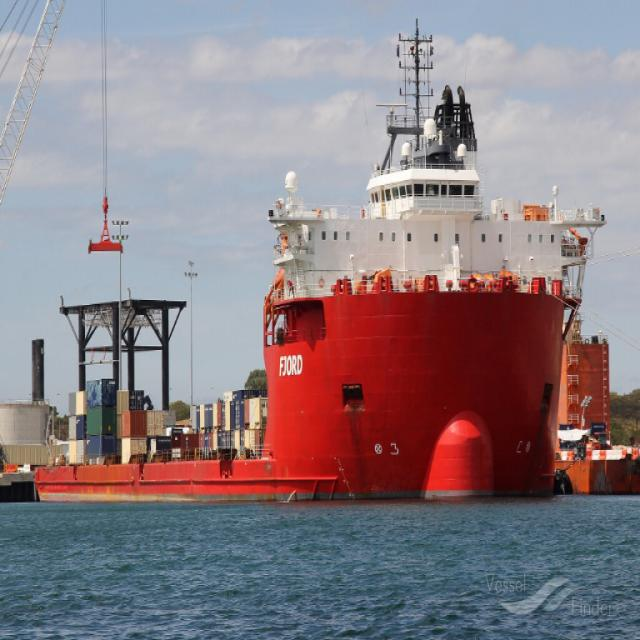OCR: (275, 351, 306, 382)
